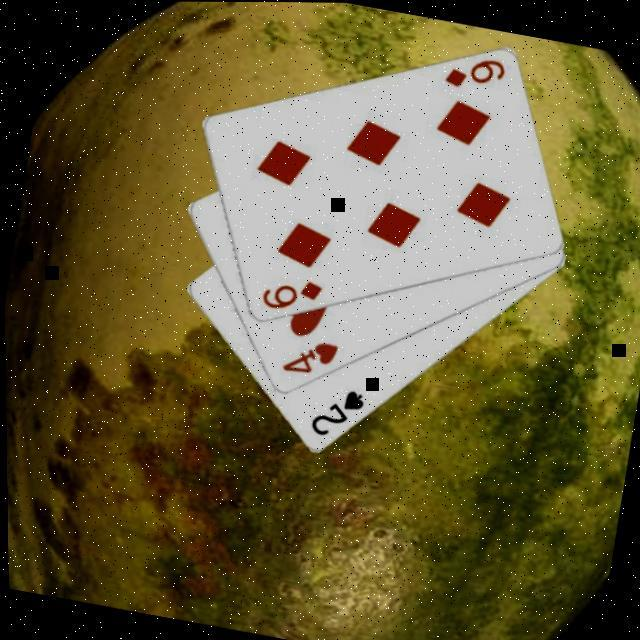2S: (304, 379, 369, 445)
4H: (276, 331, 342, 383)
6D: (256, 268, 327, 319), (440, 46, 511, 97)
